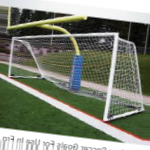goals: (5, 32, 148, 123)
